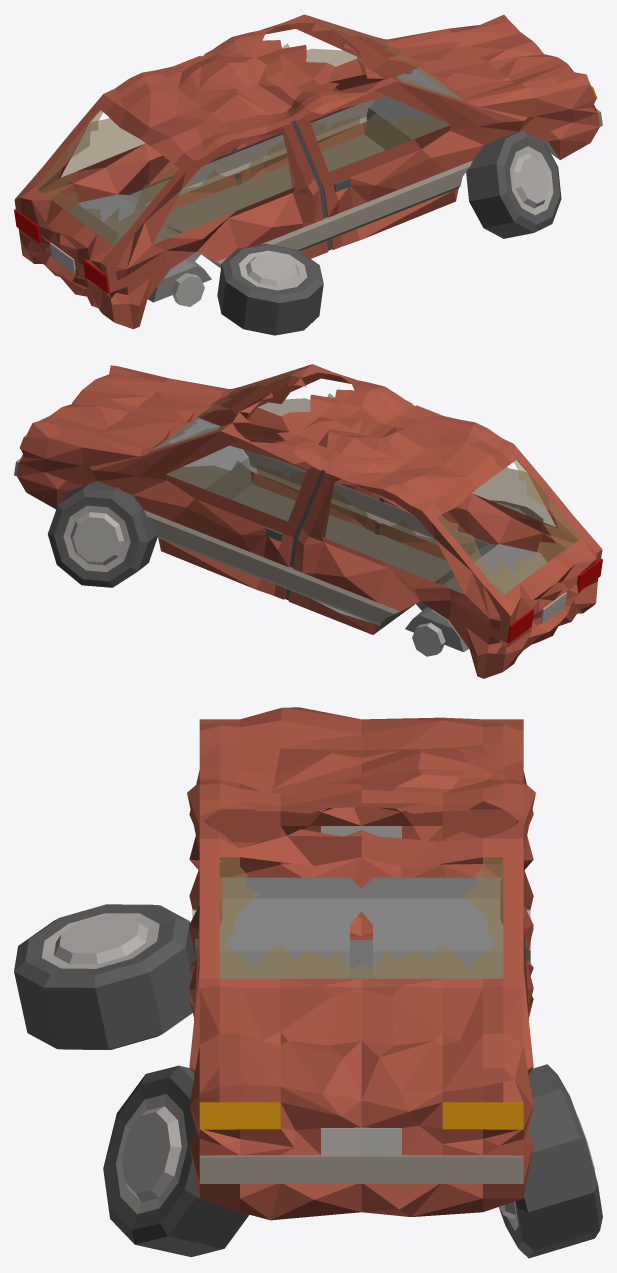
Rendered from carWreck.fbx.
3 renders of one model, top to bottom at view 1: azimuth 30°, elevation 25°; view 2: azimuth 150°, elevation 25°; view 3: azimuth 270°, elevation 25°, orthographic. The views are drawn at different scales.
Parts seen in each view (by area): view 1: polySurface47; view 2: polySurface47; view 3: polySurface47.
Part boxes in pixels (x1,y1,x2,y2): polySurface47: (14, 14, 602, 335); polySurface47: (14, 364, 602, 678); polySurface47: (14, 707, 602, 1258).
Bounding box in the file's own units: 13 × 4.56 × 7.44.
